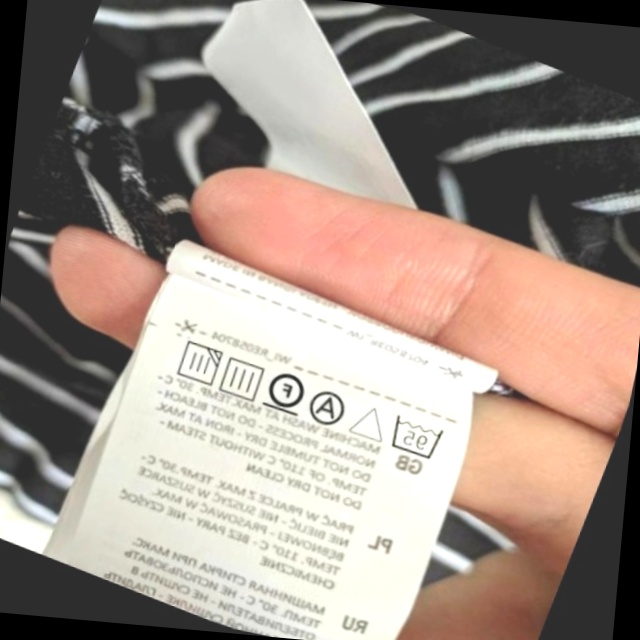95C: (380, 406, 451, 467)
bleach: (345, 394, 396, 449)
drip_dry: (212, 349, 272, 407)
drip_dry_in_shade: (166, 332, 228, 393)
dry_clean: (302, 382, 355, 434)
dry_clean_petrol_only: (258, 360, 314, 421)
